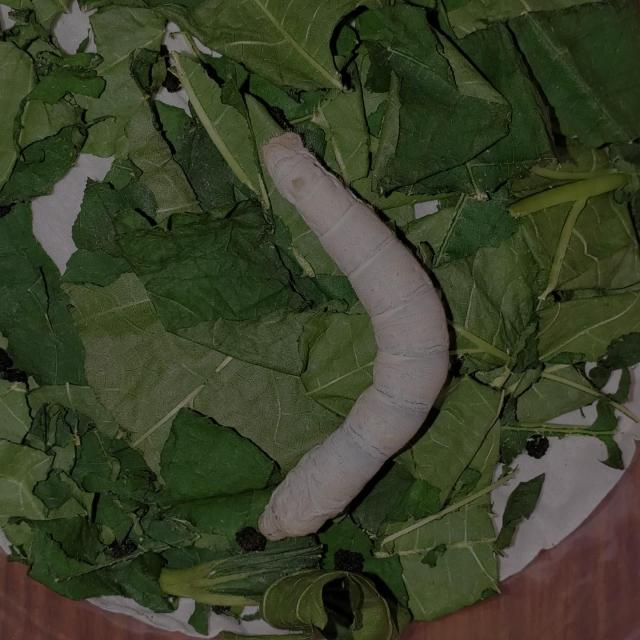Healthy: (239, 129, 460, 542)
